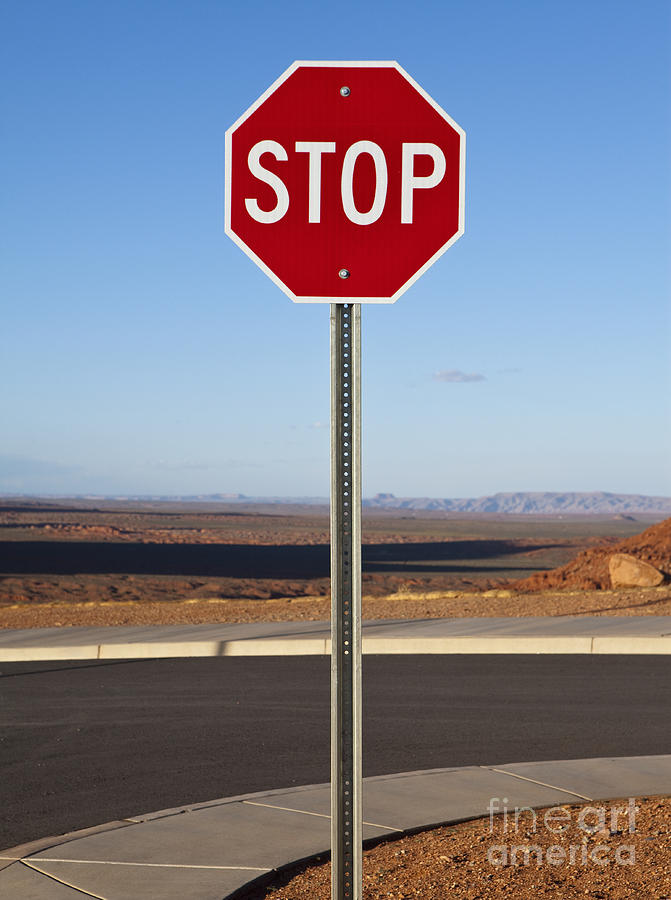stop: (218, 53, 471, 307)
